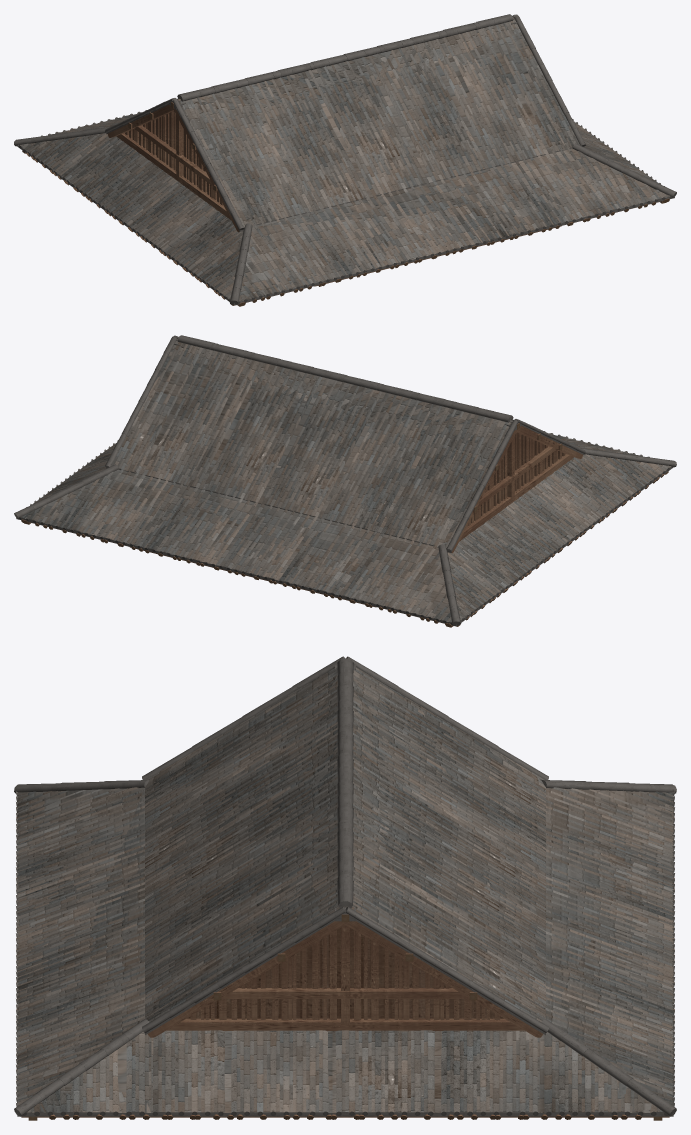
File: CourtMainRoof.fbx
The picture shows the model from 3 angles, top to bottom: view 1: azimuth 30°, elevation 25°; view 2: azimuth 150°, elevation 25°; view 3: azimuth 270°, elevation 25°; orthographic projection. The views are drawn at different scales.
Visible parts, largest first — view 1: CourtMainRoof_Tier0, CourtMainRoof_Tier1, CourtMainRoof_Tier2; view 2: CourtMainRoof_Tier0, CourtMainRoof_Tier1, CourtMainRoof_Tier2; view 3: CourtMainRoof_Tier0, CourtMainRoof_Tier1, CourtMainRoof_Tier2.
Part boxes in pixels (bbox=[...]): CourtMainRoof_Tier0: bbox=[14, 14, 676, 306]; CourtMainRoof_Tier1: bbox=[14, 14, 676, 306]; CourtMainRoof_Tier2: bbox=[24, 14, 675, 305]; CourtMainRoof_Tier0: bbox=[14, 336, 676, 627]; CourtMainRoof_Tier1: bbox=[14, 335, 676, 627]; CourtMainRoof_Tier2: bbox=[16, 335, 667, 626]; CourtMainRoof_Tier0: bbox=[14, 657, 676, 1120]; CourtMainRoof_Tier1: bbox=[15, 656, 676, 1120]; CourtMainRoof_Tier2: bbox=[16, 656, 675, 1117].
Bounding box in the file's own units: 19.4 × 5.54 × 16.57.
3 materials, 3 textured.
